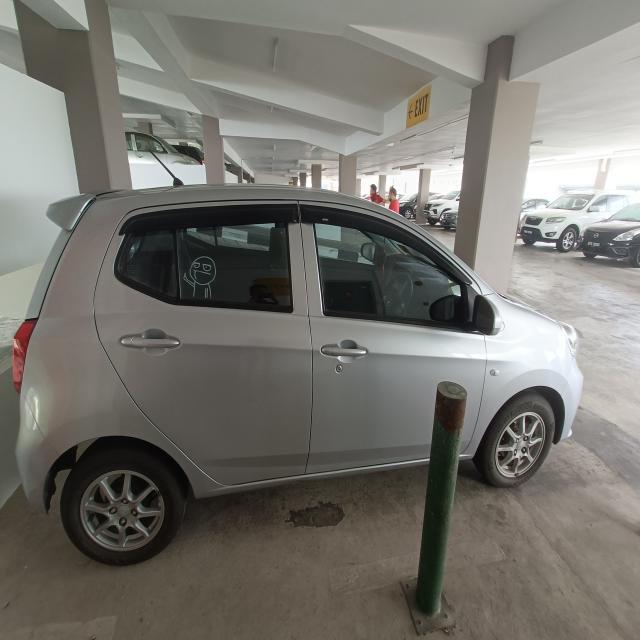PeroduaAxia: (11, 181, 584, 566)
